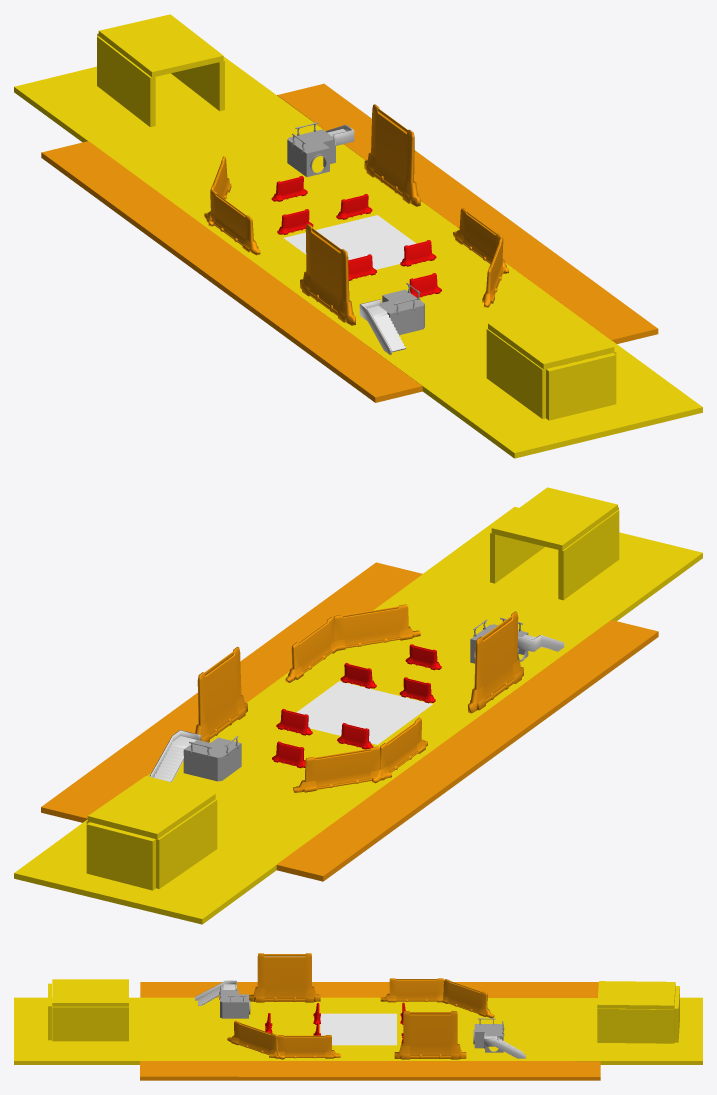
The model's file is TestStage.fbx.
3 renders of one model, top to bottom at view 1: azimuth 30°, elevation 25°; view 2: azimuth 150°, elevation 25°; view 3: azimuth 270°, elevation 25°, orthographic. The views are drawn at different scales.
Visible parts, largest first — view 1: Docking_Floors_mdl__16_, Docking_Floors_mdl__14_, Docking_Floors_mdl__15_, Docking_Floors_mdl__5_, Docking_Floors_mdl__3_, Docking_Floors_mdl__, Docking_Floors_mdl__7_, Docking_Floors_mdl__11_, Docking_Floors_mdl__9_, Barricade_mdl_12, Barricade_mdl_11, Docking_Floors_mdl (+11 smaller); view 2: Docking_Floors_mdl__16_, Docking_Floors_mdl__5_, Docking_Floors_mdl__14_, Docking_Floors_mdl__3_, Docking_Floors_mdl__15_, Docking_Floors_mdl__, Docking_Floors_mdl__11_, Docking_Floors_mdl__7_, Docking_Floors_mdl, Docking_Floors_mdl__13_, Barricade_mdl_11, Barricade_mdl_12 (+11 smaller); view 3: Docking_Floors_mdl__, Docking_Floors_mdl__5_, Docking_Floors_mdl__3_, Docking_Floors_mdl__14_, Docking_Floors_mdl__15_, Docking_Floors_mdl__16_, Barricade_mdl_11, Barricade_mdl_12, Docking_Floors_mdl__8_, Docking_Floors_mdl__10_, Docking_Floors_mdl, Docking_Floors_mdl__11_ (+13 smaller).
Boxes of the visible parts, box(x1,y1,x2,y2) form: Docking_Floors_mdl__16_: box(41, 141, 422, 402); Docking_Floors_mdl__14_: box(14, 56, 313, 168); Docking_Floors_mdl__15_: box(126, 122, 424, 249); Docking_Floors_mdl__5_: box(404, 326, 702, 458); Docking_Floors_mdl__3_: box(292, 247, 590, 371); Docking_Floors_mdl__: box(277, 83, 658, 343); Docking_Floors_mdl__7_: box(488, 306, 614, 369); Docking_Floors_mdl__11_: box(98, 14, 223, 77); Docking_Floors_mdl__9_: box(546, 353, 616, 420); Barricade_mdl_12: box(364, 104, 420, 206); Barricade_mdl_11: box(300, 223, 355, 325); Docking_Floors_mdl: box(284, 215, 416, 269); Docking_Floors_mdl__16_: box(276, 620, 658, 881); Docking_Floors_mdl__5_: box(403, 507, 702, 634); Docking_Floors_mdl__14_: box(14, 814, 312, 924); Docking_Floors_mdl__3_: box(305, 588, 591, 715); Docking_Floors_mdl__15_: box(147, 713, 423, 837); Docking_Floors_mdl__: box(41, 562, 422, 822); Docking_Floors_mdl__11_: box(87, 776, 215, 839); Docking_Floors_mdl__7_: box(491, 487, 617, 550); Docking_Floors_mdl: box(296, 681, 432, 744); Docking_Floors_mdl__13_: box(86, 822, 155, 890); Barricade_mdl_11: box(468, 611, 523, 713); Barricade_mdl_12: box(195, 647, 247, 742); Docking_Floors_mdl__: box(140, 1061, 600, 1080); Docking_Floors_mdl__5_: box(14, 997, 167, 1064); Docking_Floors_mdl__3_: box(167, 997, 320, 1060); Docking_Floors_mdl__14_: box(549, 997, 702, 1064); Docking_Floors_mdl__15_: box(397, 998, 550, 1060); Docking_Floors_mdl__16_: box(140, 982, 598, 997); Barricade_mdl_11: box(249, 953, 320, 1002); Barricade_mdl_12: box(394, 1011, 466, 1059); Docking_Floors_mdl__8_: box(52, 1006, 128, 1041); Docking_Floors_mdl__10_: box(597, 1008, 674, 1043); Docking_Floors_mdl: box(320, 1013, 396, 1045); Docking_Floors_mdl__11_: box(597, 981, 675, 1009).
Bounding box in the file's own units: 1361 × 341 × 4166.
